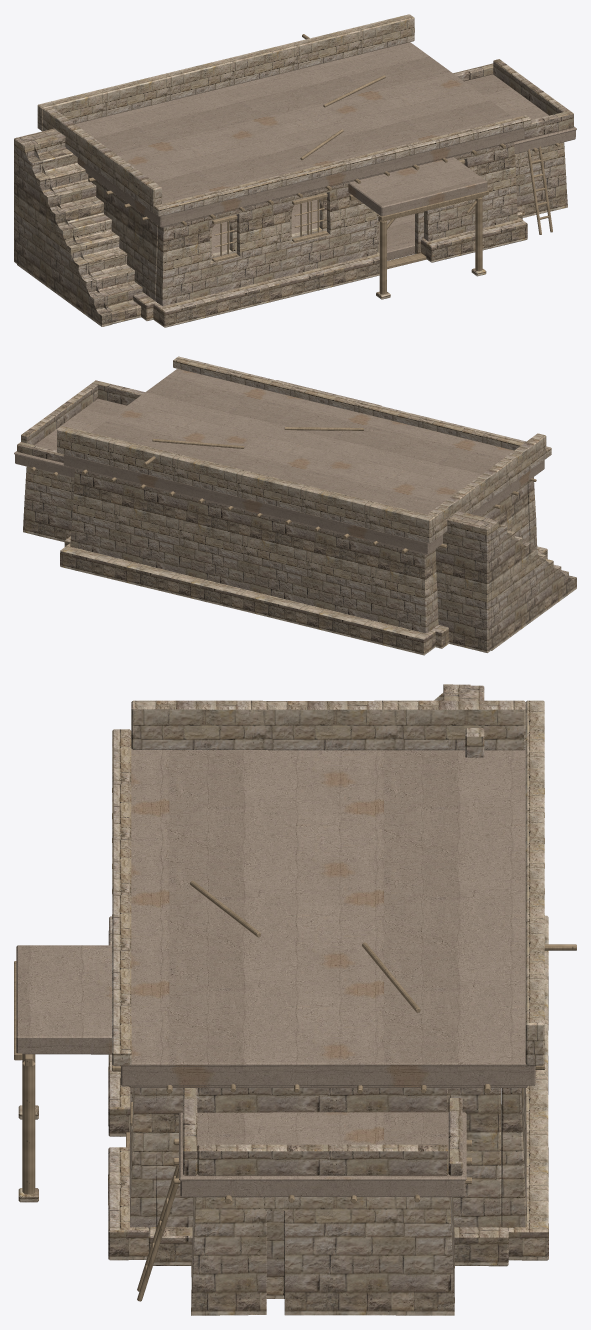
3 views of the same model, one above another, from view 1: azimuth 30°, elevation 25°; view 2: azimuth 150°, elevation 25°; view 3: azimuth 270°, elevation 25° (orthographic). The views are drawn at different scales.
Parts seen in each view (by area): view 1: house; view 2: house; view 3: house.
Part boxes in pixels (<box>): house: <box>14,14,576,327</box>; house: <box>14,356,576,655</box>; house: <box>14,684,576,1315</box>.
Size of the model in its own units: 16.56 by 4.69 by 9.44.
3 materials, 3 textured.
